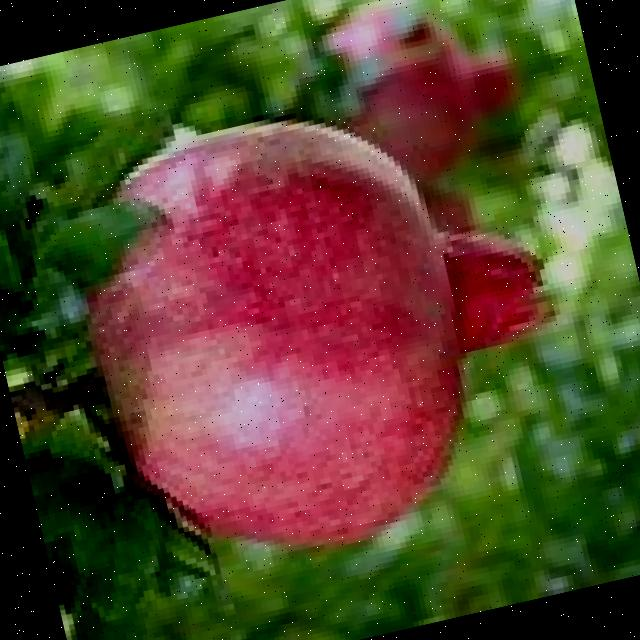Pomegranate: (39, 64, 604, 593)
